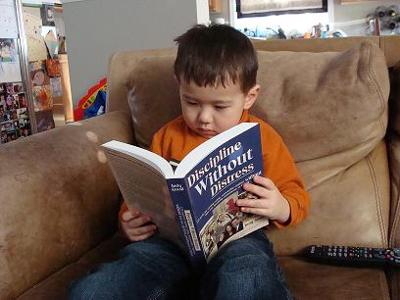person: (70, 24, 310, 299)
